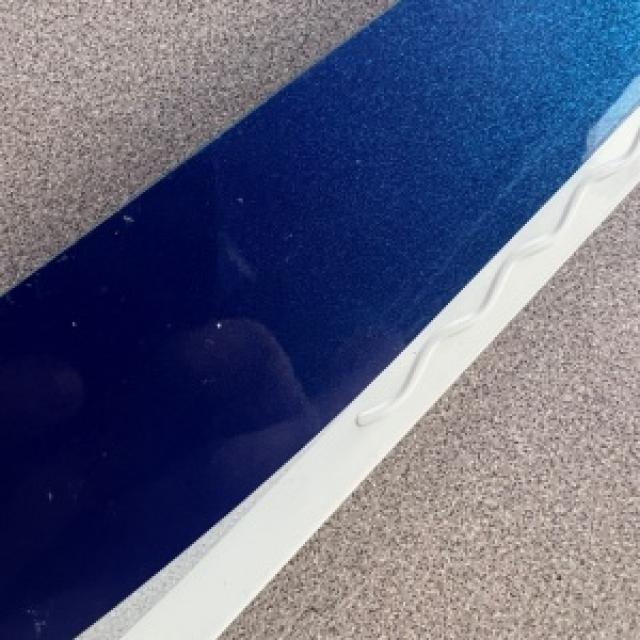healthy: (11, 0, 126, 132)
